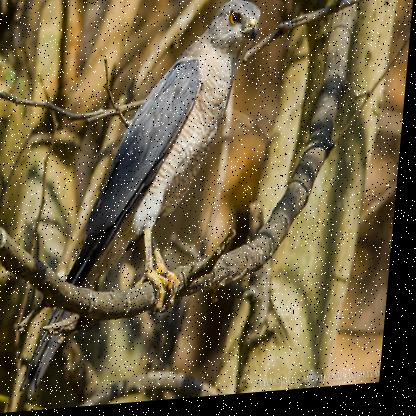Burung: (27, 1, 263, 402)
